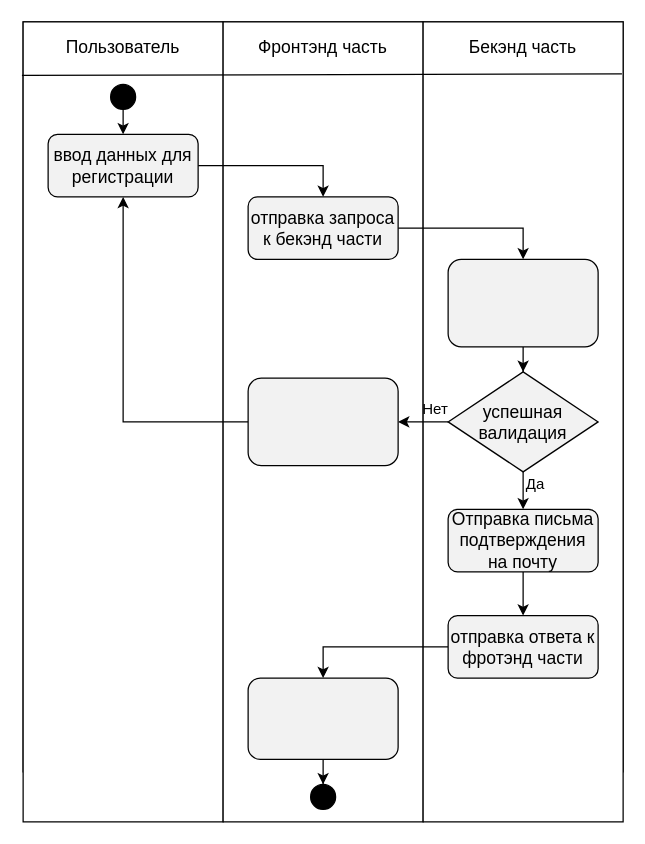
This 645x844 diagram has some shape labels left out. The centre of each missing label's shape, as x and y in pixels:
"вывод сообщения о том, что данные не уникальны" belongs at pixel 322 421.
"переадресация на страницу с сообщением о письме" belongs at pixel 322 718.
"Проверка имени пользователя и почты на уникальность" belongs at pixel 522 302.
